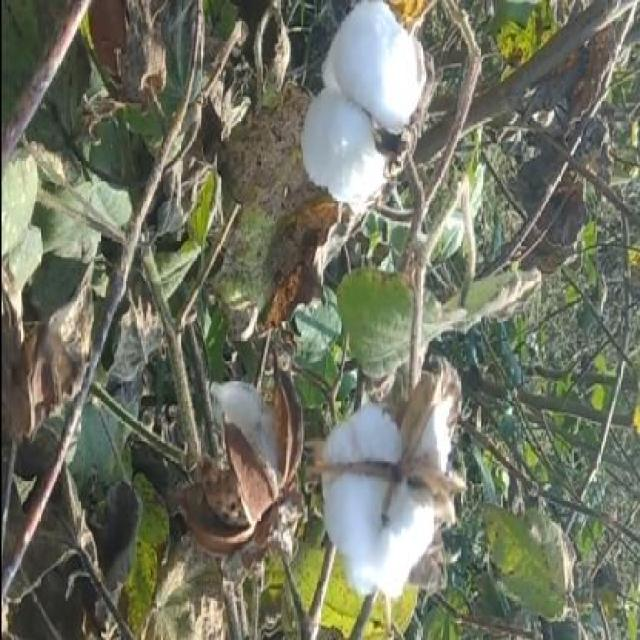cotton_ready: (304, 336, 479, 602), (291, 1, 440, 236)
